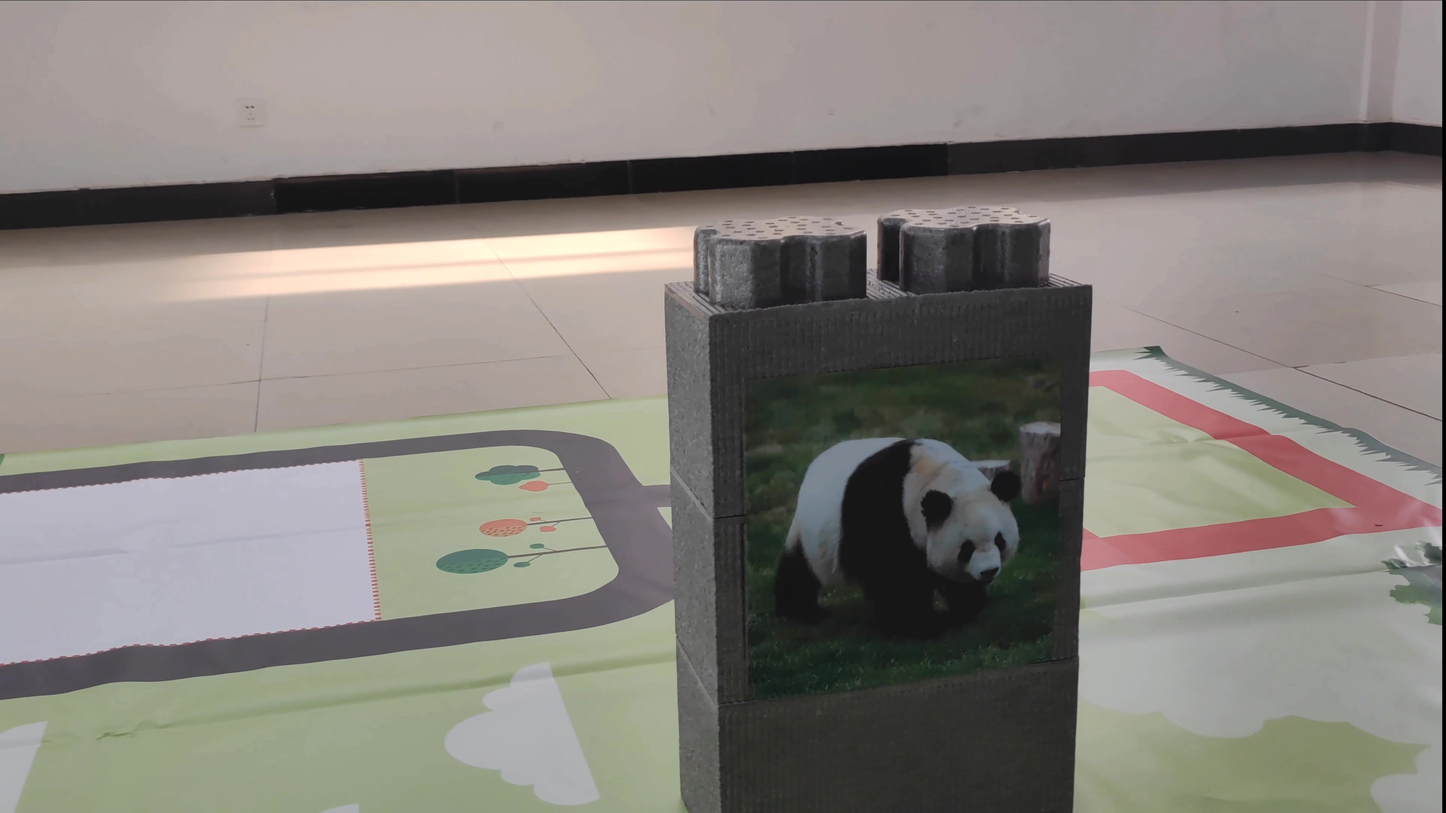panda: (753, 399, 1045, 644)
